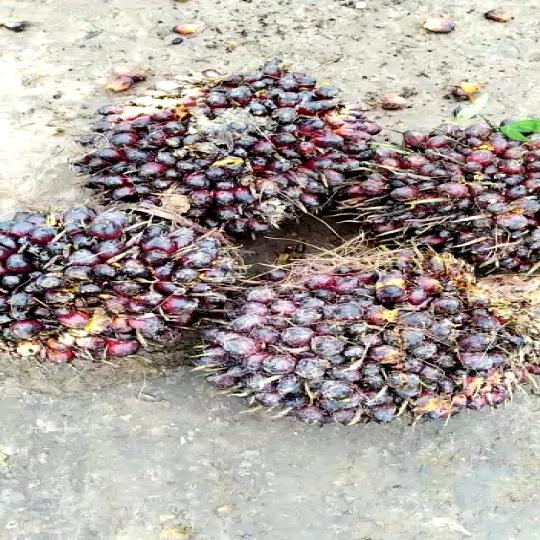kurang masak: (201, 246, 540, 428), (93, 68, 377, 223), (0, 187, 213, 371), (377, 98, 540, 282)
